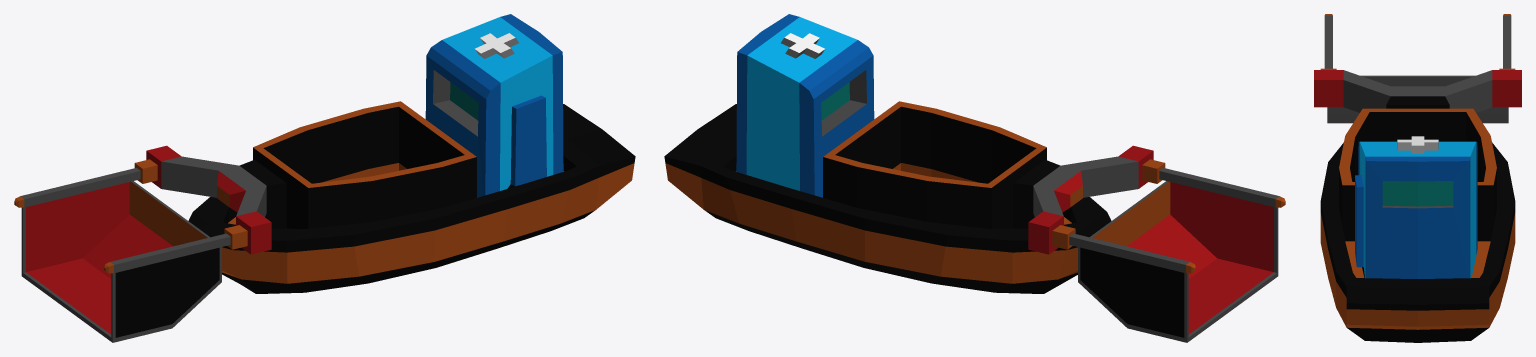
Rendered from Boat.fbx.
3 renders of one model, left to right at view 1: azimuth 30°, elevation 25°; view 2: azimuth 150°, elevation 25°; view 3: azimuth 270°, elevation 25°, orthographic.
Parts seen in each view (by area): view 1: Boat, Collector; view 2: Boat, Collector; view 3: Boat, Collector.
Part boxes in pixels (left/top/right/bottom): Boat: left=188, top=14, right=635, bottom=293; Collector: left=14, top=145, right=271, bottom=342; Boat: left=664, top=14, right=1111, bottom=293; Collector: left=1028, top=145, right=1285, bottom=342; Boat: left=1320, top=96, right=1515, bottom=342; Collector: left=1314, top=14, right=1521, bottom=123.
Size of the model in its own units: 1317 by 424 by 440.
